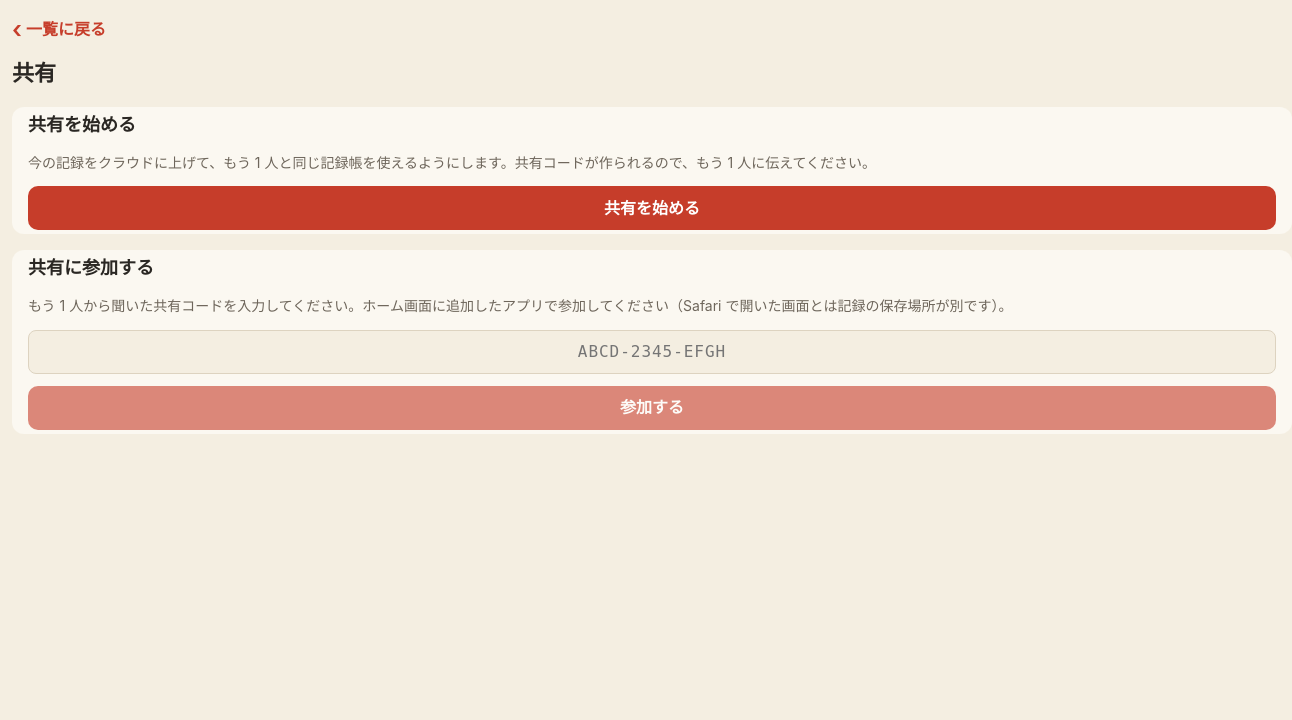
Test: SharePage：共有に参加する › 参加できなければ理由を表示する（{"status":"not-found"}）
The image size is (1292, 720).
Type "ABCD-2345-EFGX" into the field named "共有コード".
click(652, 352); type("ABCD-2345-EFGX")  # box [28,330,1276,374]
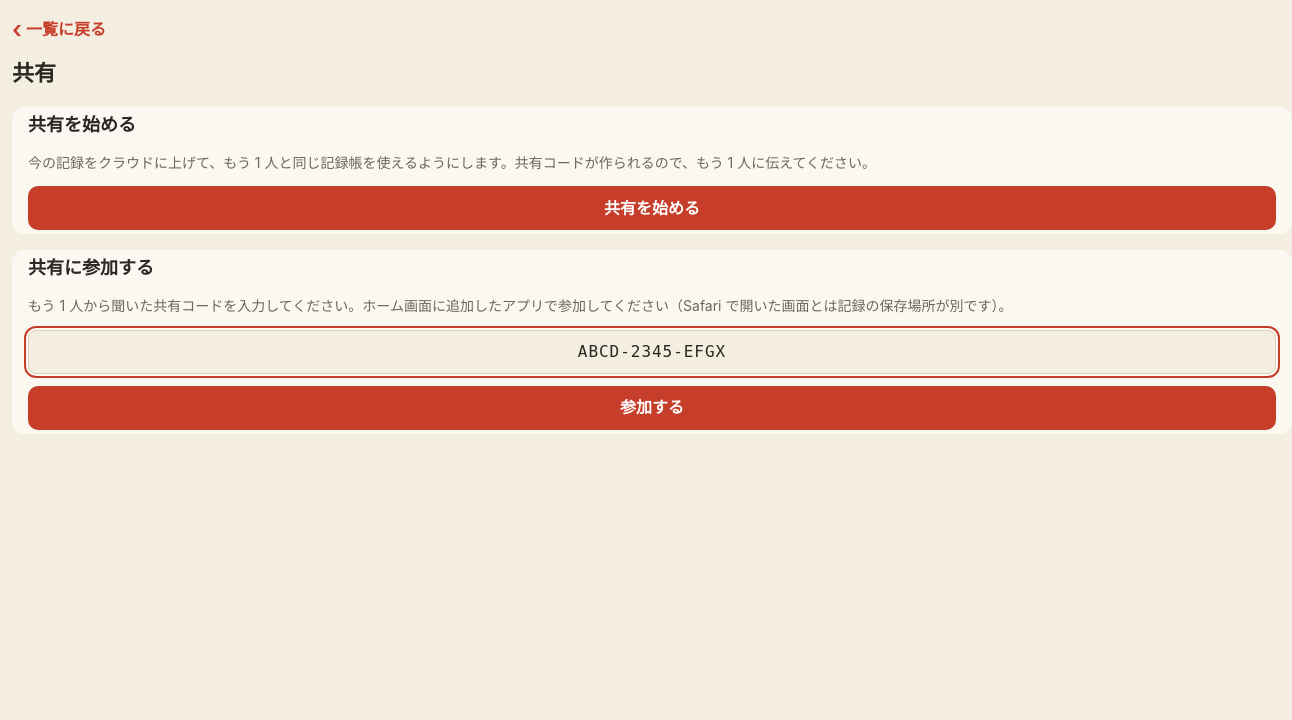
Click the button "参加する".
click(652, 408)  # box [28,386,1276,430]
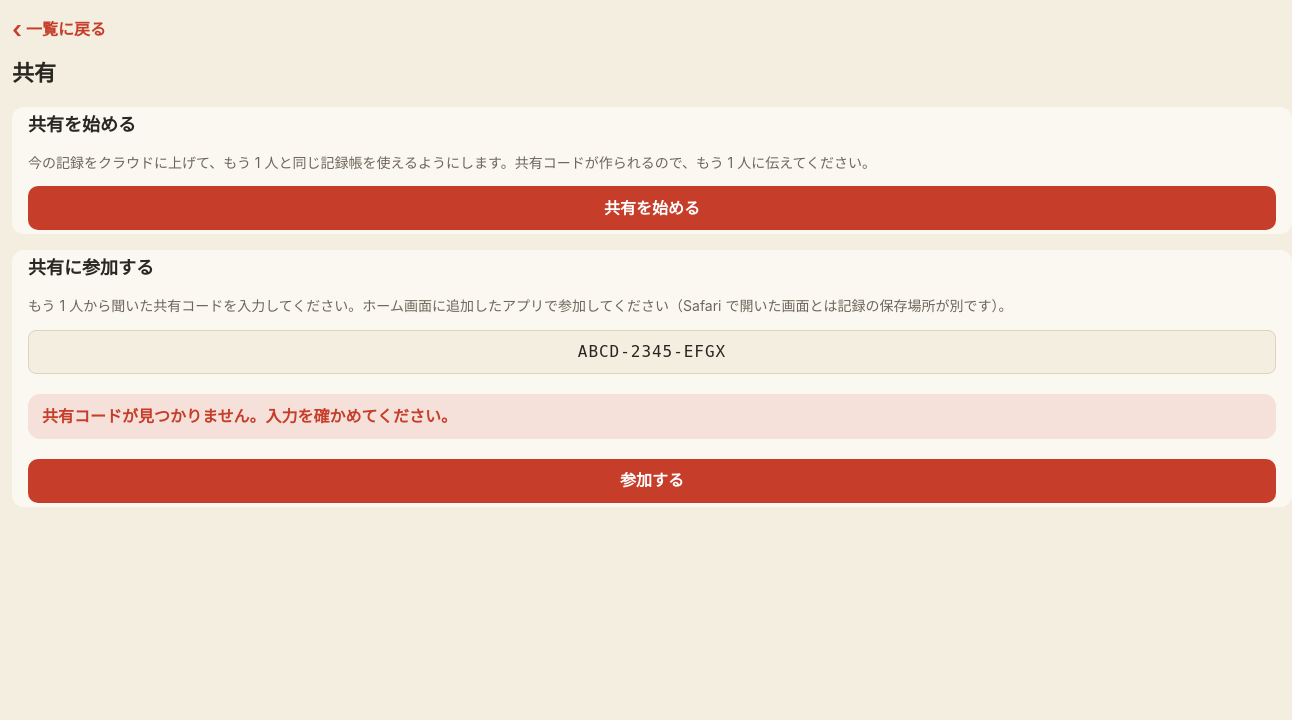
expect the button "参加する" is enabled: met, box [28,459,1276,503]
expect the message reads "共有コードが見つかりません。入力を確かめてください。": met, box [42,406,457,426]
